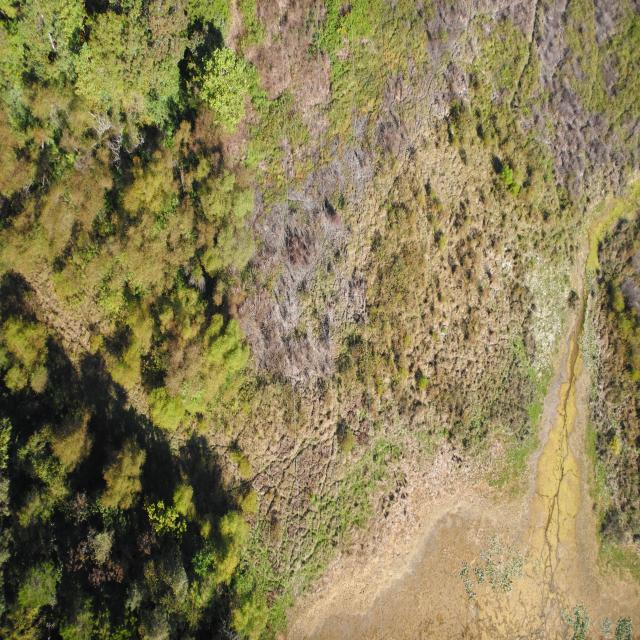Area of Interest: (6, 330, 273, 639)
